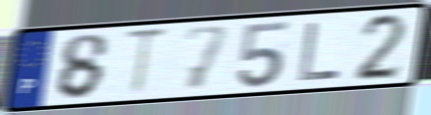2: (353, 12, 412, 82)
5: (235, 19, 292, 90)
7: (182, 23, 230, 95)
8: (56, 32, 111, 101)
L: (296, 20, 343, 83)
T: (122, 26, 172, 99)
